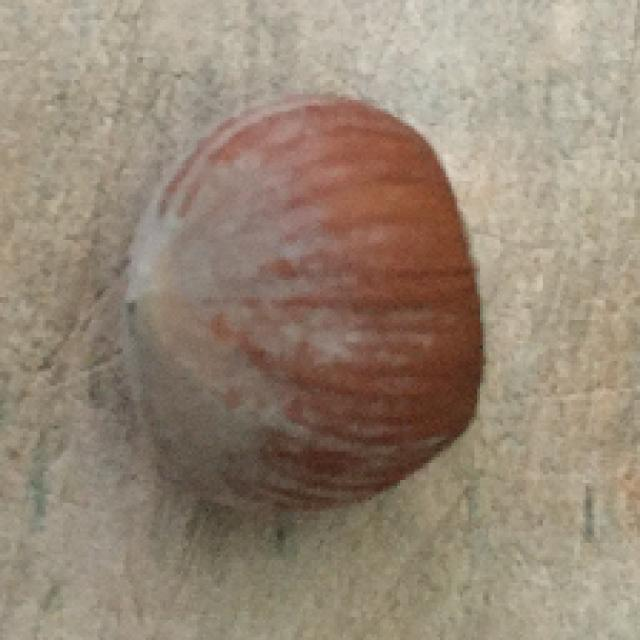qualityHazelnut: (122, 95, 488, 524)
